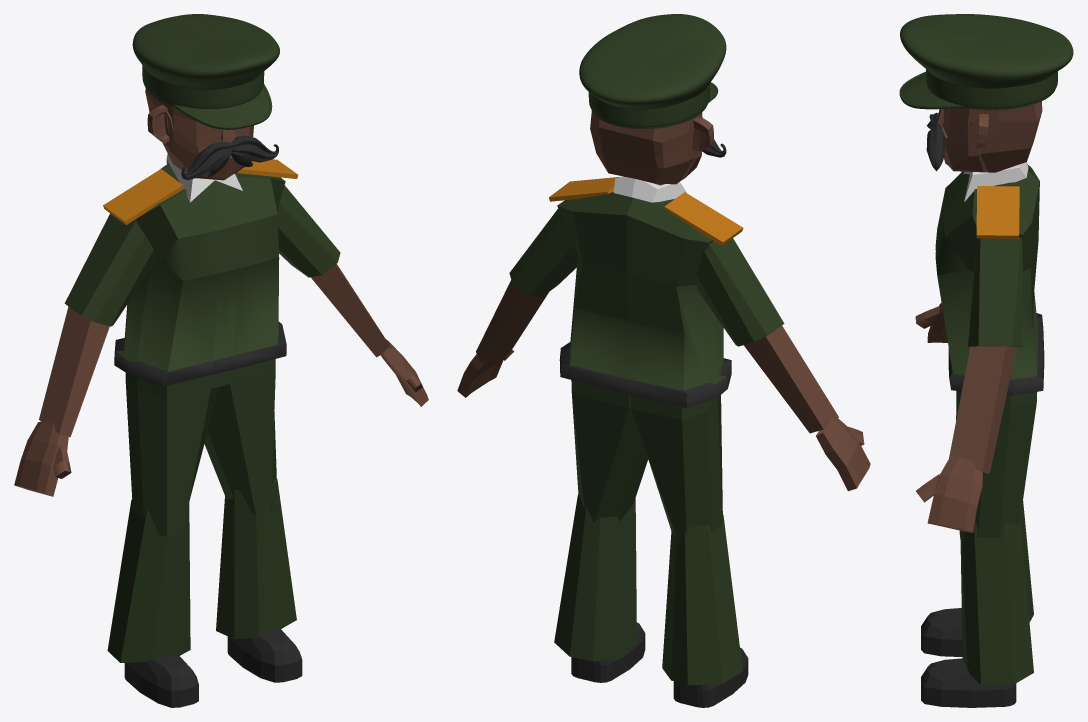
The model's file is Heneral_Tuna1.fbx.
3 renders of one model, left to right at view 1: azimuth 30°, elevation 25°; view 2: azimuth 150°, elevation 25°; view 3: azimuth 270°, elevation 25°, orthographic.
Parts seen in each view (by area): view 1: under.011, under.010, Berret, under.008, under.001, arm.005, arm.007, arm.001, head.002, under.006, hand.001, under (+6 smaller); view 2: under.011, under.010, Berret, under.001, under.008, arm.005, head.002, arm.007, arm.001, arm.006, hand.001, Plane.001 (+4 smaller); view 3: Berret, under.011, under.001, under.010, arm.001, arm.006, head.002, hand, under, Plane, under.006, hand.001 (+3 smaller).
Part boxes in pixels (<box>): under.011: <box>114,154,286,386</box>; under.010: <box>125,359,276,536</box>; Berret: <box>132,14,279,129</box>; under.008: <box>107,499,190,662</box>; under.001: <box>216,478,296,639</box>; arm.005: <box>64,213,154,326</box>; arm.007: <box>39,306,109,437</box>; arm.001: <box>277,185,340,277</box>; head.002: <box>145,88,253,180</box>; under.006: <box>124,655,198,707</box>; hand.001: <box>14,421,71,496</box>; under: <box>227,627,302,682</box>; under.011: <box>557,176,731,407</box>; under.010: <box>571,380,722,543</box>; Berret: <box>579,14,726,128</box>; under.001: <box>554,494,636,661</box>; under.008: <box>662,515,742,685</box>; arm.005: <box>696,238,784,346</box>; head.002: <box>590,110,702,184</box>; arm.007: <box>744,325,838,433</box>; arm.001: <box>509,208,577,297</box>; arm.006: <box>476,280,548,361</box>; hand.001: <box>816,416,870,491</box>; Plane.001: <box>664,192,743,245</box>; Berret: <box>899,14,1073,110</box>; under.011: <box>935,162,1044,395</box>; under.001: <box>960,520,1033,685</box>; under.010: <box>956,391,1037,542</box>; arm.001: <box>968,237,1022,347</box>; arm.006: <box>949,346,1016,473</box>; head.002: <box>936,101,1042,172</box>; hand: <box>916,456,982,532</box>; under: <box>921,658,1016,707</box>; Plane: <box>976,186,1019,239</box>; under.006: <box>921,608,962,656</box>; hand.001: <box>915,303,947,342</box>.
Bounding box in the file's own units: 128 × 195 × 47.94.
